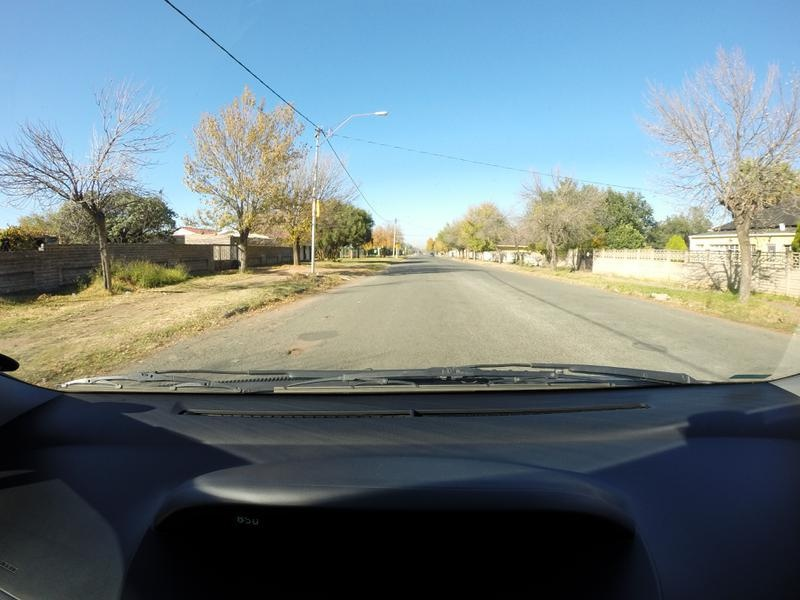pothole: (282, 344, 307, 354)
